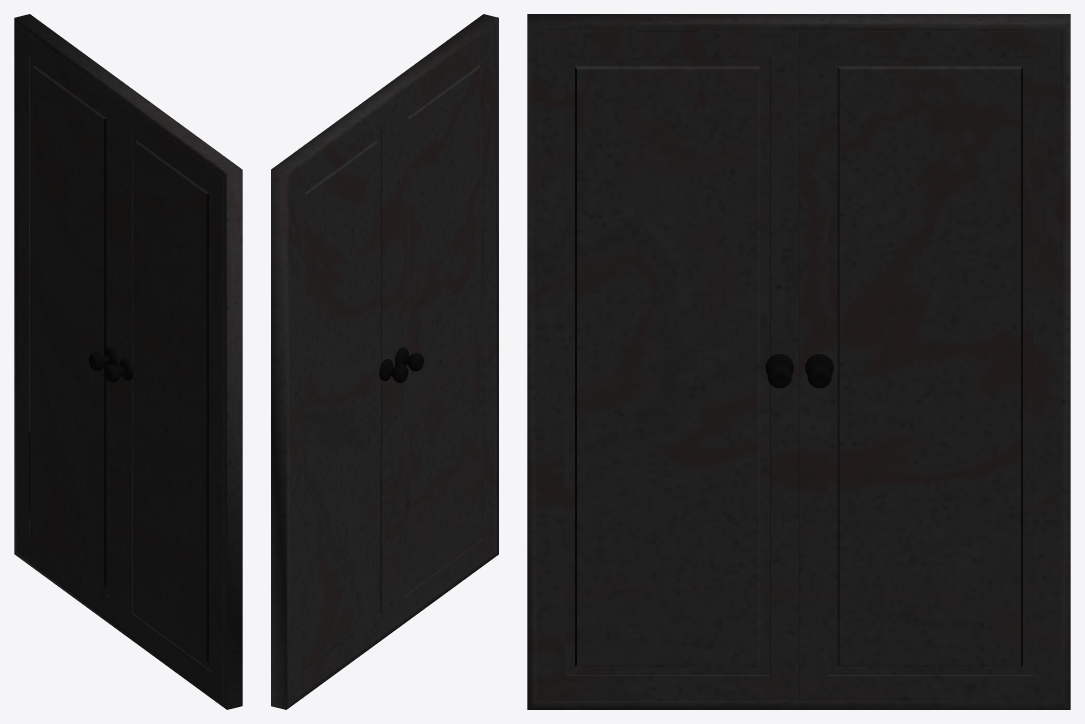
File: PanelDoorFactory5447300.spawn_asset2.glb
The picture shows the model from 3 angles, left to right: view 1: azimuth 30°, elevation 25°; view 2: azimuth 150°, elevation 25°; view 3: azimuth 270°, elevation 25°; orthographic projection. The views are drawn at different scales.
Visible parts, largest first — view 1: PanelDoorFactory(5447300).spawn_asset(2).001; view 2: PanelDoorFactory(5447300).spawn_asset(2).001; view 3: PanelDoorFactory(5447300).spawn_asset(2).001.
Part boxes in pixels (x1,y1,x2,y2): PanelDoorFactory(5447300).spawn_asset(2).001: (14, 14, 242, 709); PanelDoorFactory(5447300).spawn_asset(2).001: (271, 14, 498, 709); PanelDoorFactory(5447300).spawn_asset(2).001: (527, 14, 1070, 709).
Bounding box in the file's own units: 0.2645 × 2.38 × 1.71.
1 material, 1 textured.
